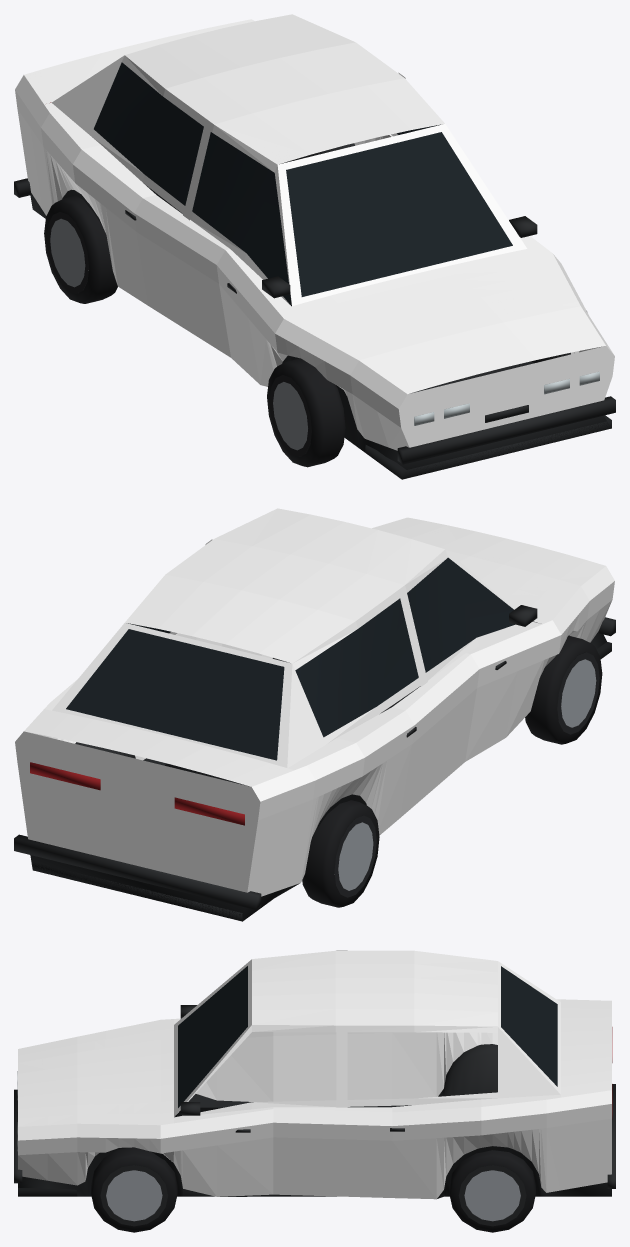
The model's file is varenna_sorva.glb.
The picture shows the model from 3 angles, top to bottom: view 1: azimuth 30°, elevation 25°; view 2: azimuth 150°, elevation 25°; view 3: azimuth 270°, elevation 25°; orthographic projection. The views are drawn at different scales.
Parts seen in each view (by area): view 1: Body_Paint, Body_Details, Mount_FrontLeft_Wheel_Details, Mount_RearLeft_Wheel_Details; view 2: Body_Paint, Body_Details, Mount_RearLeft_Wheel_Details, Mount_FrontLeft_Wheel_Details; view 3: Body_Paint, Body_Details, Mount_FrontRight_Wheel_Details, Mount_RearRight_Wheel_Details.
Boxes of the visible parts, x1=… form: Body_Paint: x1=15, y1=14, x2=614, y2=450; Body_Details: x1=14, y1=62, x2=615, y2=479; Mount_FrontLeft_Wheel_Details: x1=267, y1=358, x2=345, y2=467; Mount_RearLeft_Wheel_Details: x1=44, y1=195, x2=117, y2=303; Body_Paint: x1=15, y1=508, x2=614, y2=896; Body_Details: x1=14, y1=557, x2=615, y2=921; Mount_RearLeft_Wheel_Details: x1=302, y1=800, x2=379, y2=907; Mount_FrontLeft_Wheel_Details: x1=525, y1=635, x2=602, y2=744; Body_Paint: x1=18, y1=950, x2=611, y2=1199; Body_Details: x1=14, y1=966, x2=615, y2=1198; Mount_FrontRight_Wheel_Details: x1=91, y1=1147, x2=177, y2=1232; Mount_RearRight_Wheel_Details: x1=449, y1=1150, x2=535, y2=1232.
Bounding box in the file's own units: 1.81 × 1.42 × 4.01.
2 materials, 1 textured.
